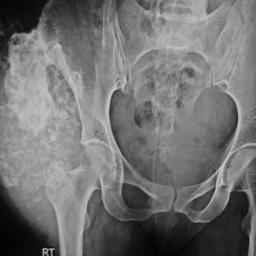cancer: (0, 29, 98, 241)
